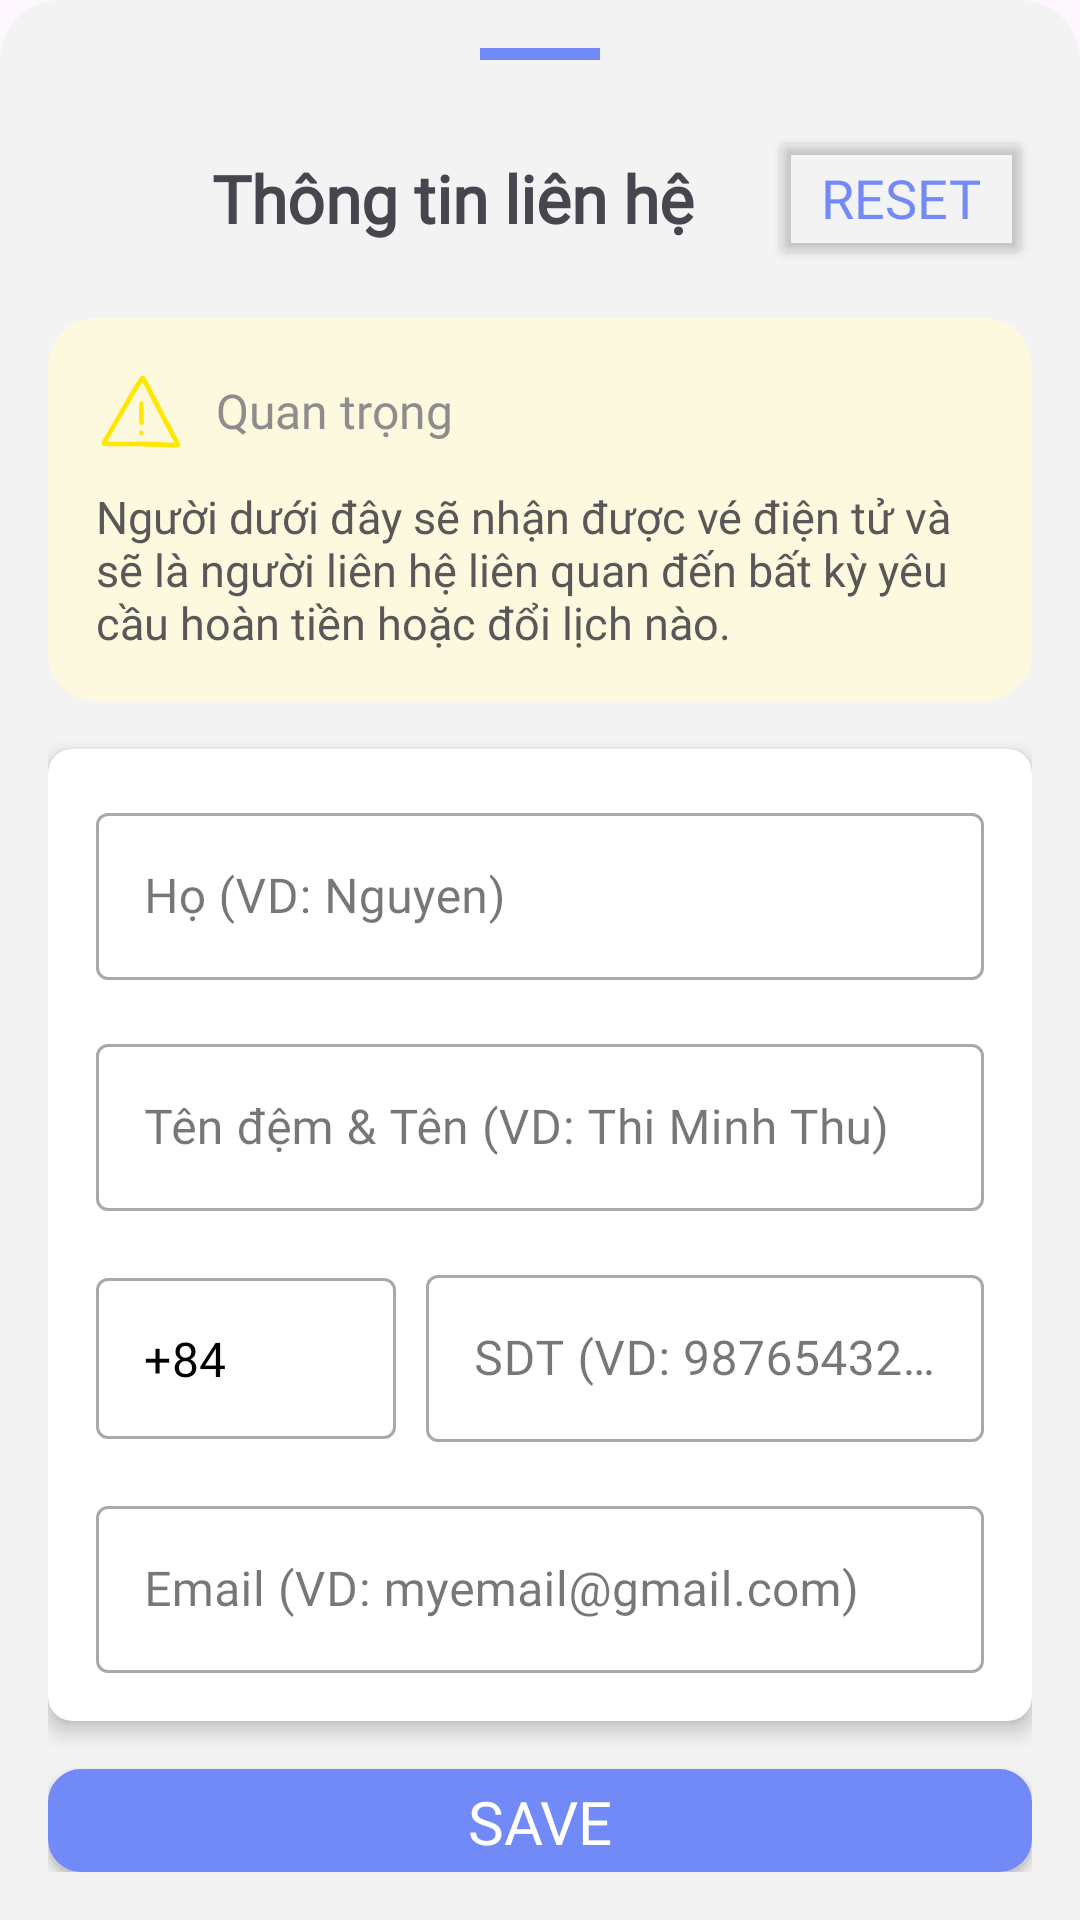

Icon bounding boxes for this 1080w x 1920h phone screenshot, format (left=x1, top=y1, right=x2, bottom=y2):
warn: (left=101, top=375, right=181, bottom=448)
